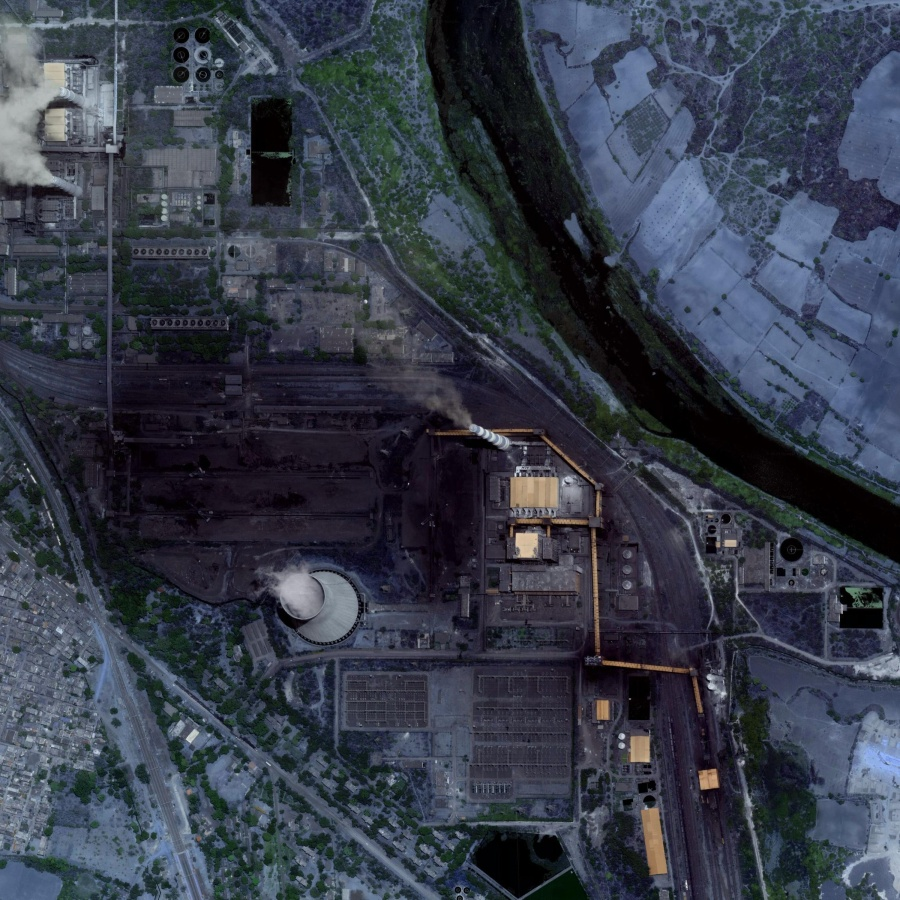PowerPlant: (78, 322, 571, 677)
